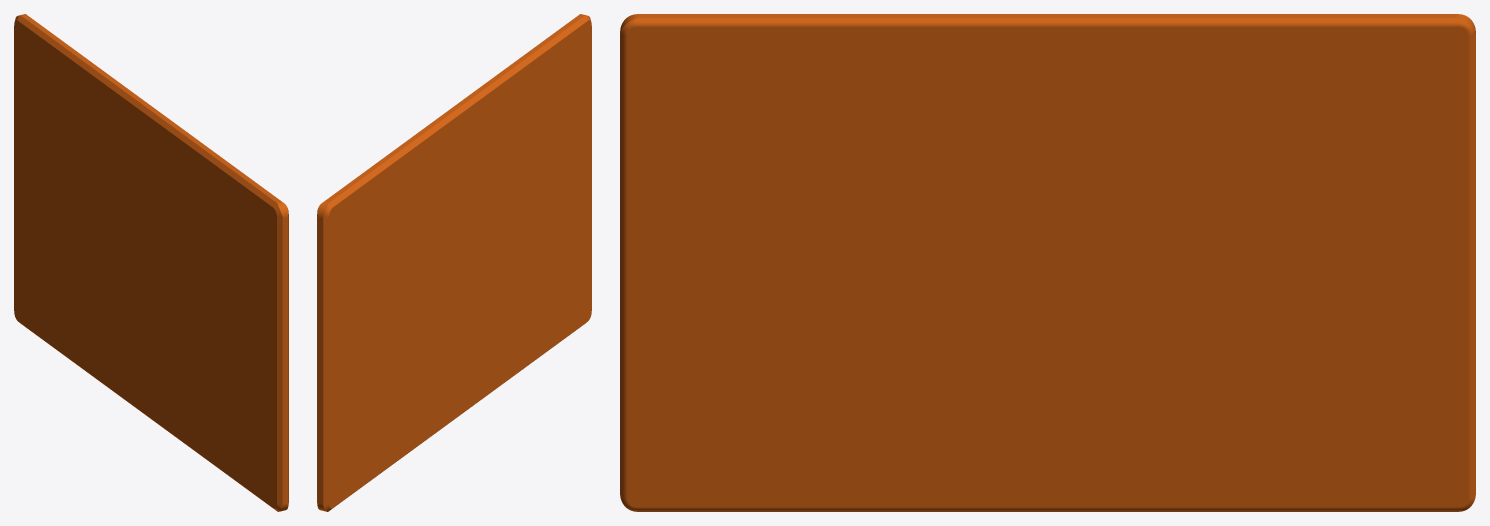
The model's file is NyxBoxV1_NyxRoyalLitterBot v106_TopPanel_1_ExteriorSheetTop_1_Body10.obj.
3 views of the same model, side by side, from view 1: azimuth 30°, elevation 25°; view 2: azimuth 150°, elevation 25°; view 3: azimuth 270°, elevation 25° (orthographic). The views are drawn at different scales.
Parts seen in each view (by area): view 1: Body10; view 2: Body10; view 3: Body10.
Boxes of the visible parts, x1,y1,x2,y2 form: Body10: (14, 14, 288, 511); Body10: (317, 14, 591, 511); Body10: (620, 14, 1475, 511).
Bounding box in the file's own units: 25.4 × 647 × 1016.
